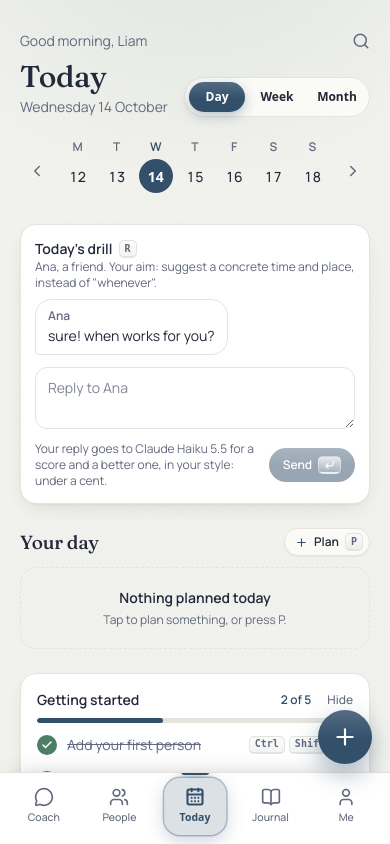
Test: What to say › opens from a chat in Analyse with its latest messages in
Click the button "Coach" at (44, 807), box [6,781,82,832]
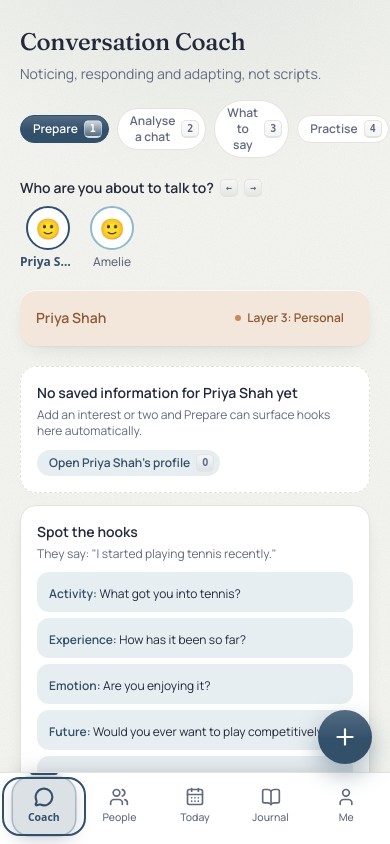
Click the button "Analyse a chat 2" at (162, 129), box [117,108,206,150]
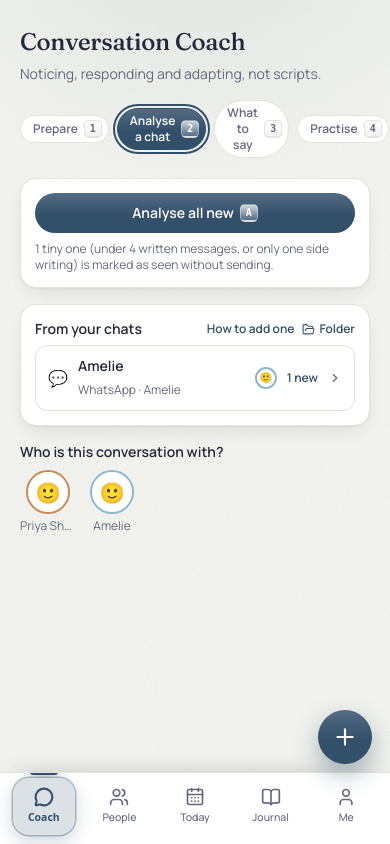
Click the button "💬 Amelie WhatsApp · Amelie 🙂 1 new" at (101, 366), box [36,346,354,410]
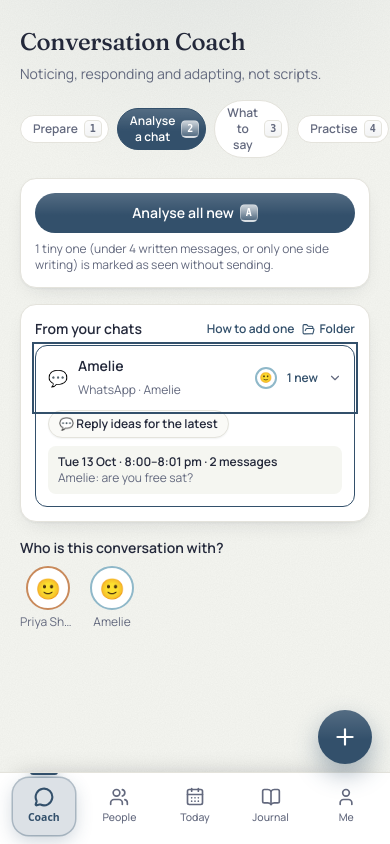
Click the button "💬 Reply ideas for the latest" at (138, 424), box [48,410,229,438]
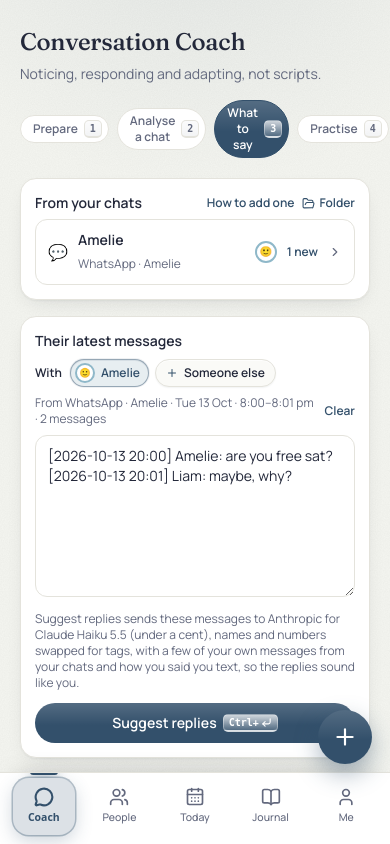
Now the text "From WhatsApp · Amelie · " is shown, box [35,395,316,427]
Now the element named "Who it's with" shows "Amelie", box [101,364,140,381]
